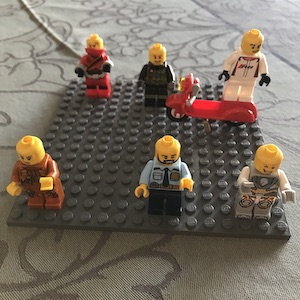Lego: (231, 144, 295, 221), (137, 134, 194, 218), (8, 133, 64, 214), (212, 28, 271, 103), (135, 43, 176, 107), (75, 33, 112, 99)
